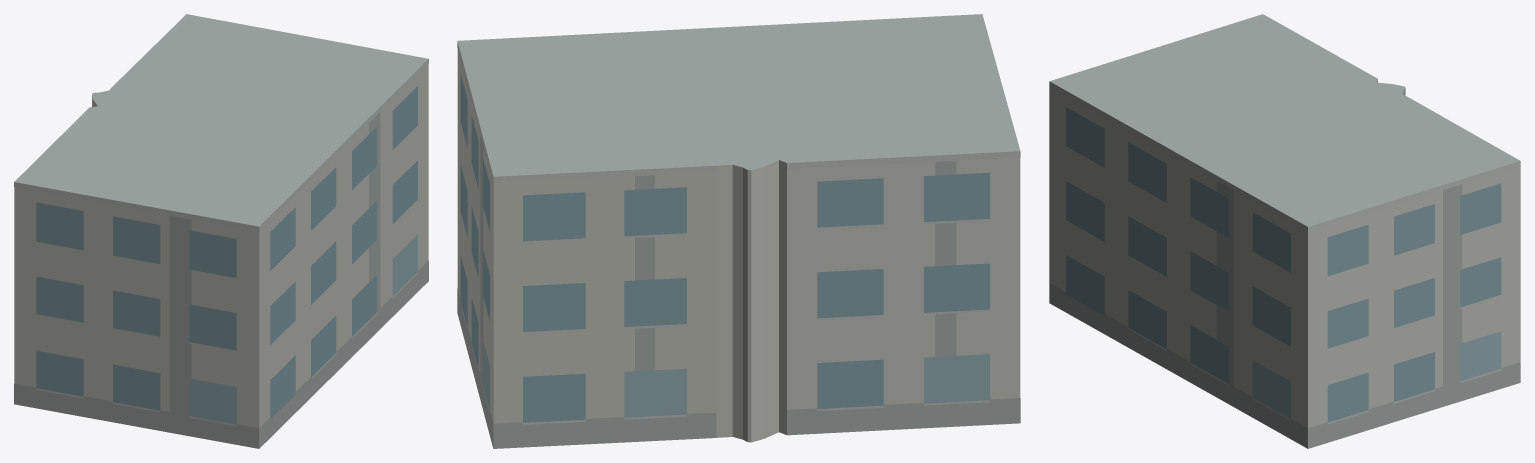
Rendered from residential-76e86331-fe6b-4739-91e4-03398250d40d.glb.
3 views of the same model, side by side, from view 1: azimuth 30°, elevation 25°; view 2: azimuth 150°, elevation 25°; view 3: azimuth 270°, elevation 25° (orthographic). The views are drawn at different scales.
Visible parts, largest first — view 1: residential-76e86331-fe6b-4739-91e4-03398250d40d.tmp; view 2: residential-76e86331-fe6b-4739-91e4-03398250d40d.tmp; view 3: residential-76e86331-fe6b-4739-91e4-03398250d40d.tmp.
Boxes of the visible parts, bbox=[...] form: residential-76e86331-fe6b-4739-91e4-03398250d40d.tmp: bbox=[14, 14, 428, 448]; residential-76e86331-fe6b-4739-91e4-03398250d40d.tmp: bbox=[457, 14, 1020, 448]; residential-76e86331-fe6b-4739-91e4-03398250d40d.tmp: bbox=[1049, 14, 1520, 448].
Size of the model in its own units: 21 by 10.2 by 19.64.
